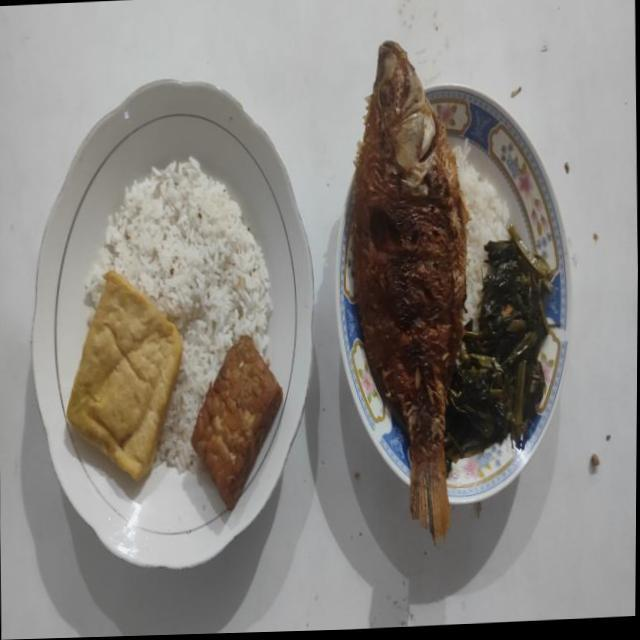ikan_mujair: (352, 41, 468, 544)
nasi_putih: (85, 157, 272, 473), (452, 145, 509, 324)
tahu_goreng: (66, 271, 182, 478)
tempe_goreng: (191, 335, 282, 509)
tumis_kangkung: (444, 225, 552, 476)
